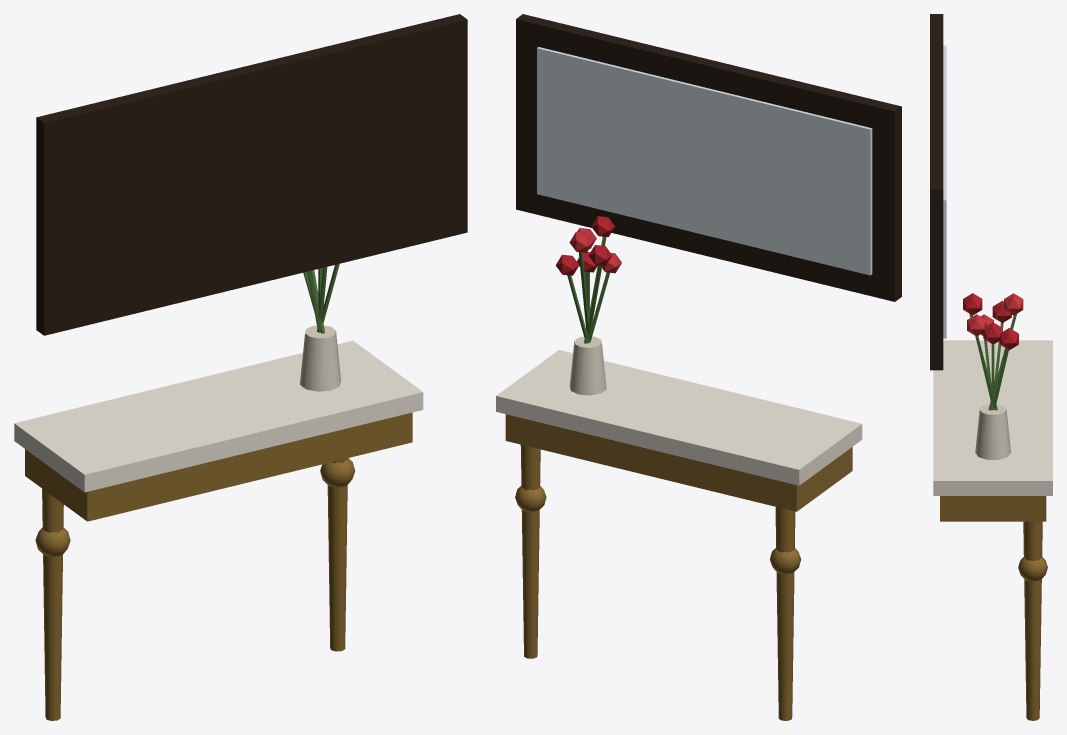
The model's file is console.glb.
3 views of the same model, side by side, from view 1: azimuth 30°, elevation 25°; view 2: azimuth 150°, elevation 25°; view 3: azimuth 270°, elevation 25° (orthographic). The views are drawn at different scales.
Visible parts, largest first — view 1: console; view 2: console; view 3: console.
Part boxes in pixels (<box>): console: <box>14,14,467,720</box>; console: <box>496,14,901,720</box>; console: <box>930,14,1052,720</box>.
Bounding box in the file's own units: 1.25 × 1.85 × 0.37.
